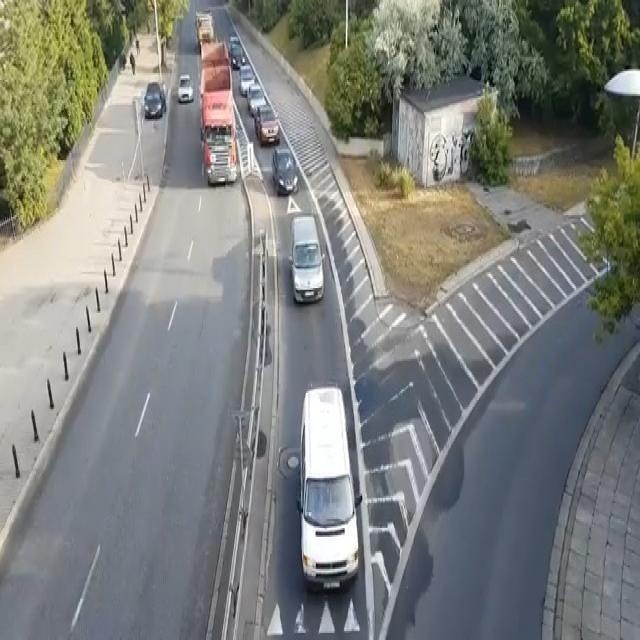Car: (294, 379, 364, 598), (288, 212, 328, 310), (272, 152, 305, 203), (140, 78, 168, 124), (256, 106, 284, 146), (244, 83, 272, 119), (176, 66, 195, 112), (228, 37, 252, 71), (233, 62, 259, 92)
Truck: (198, 66, 240, 188), (188, 9, 218, 55)
